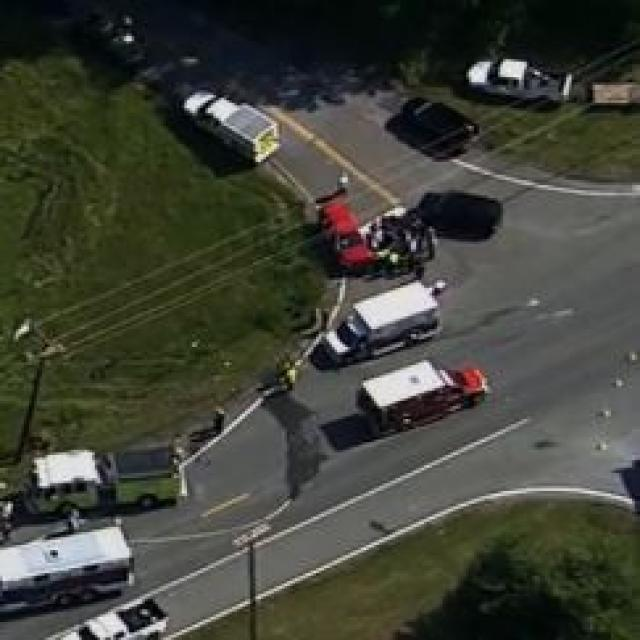traffic_incident: (21, 429, 182, 517), (356, 193, 426, 270)
